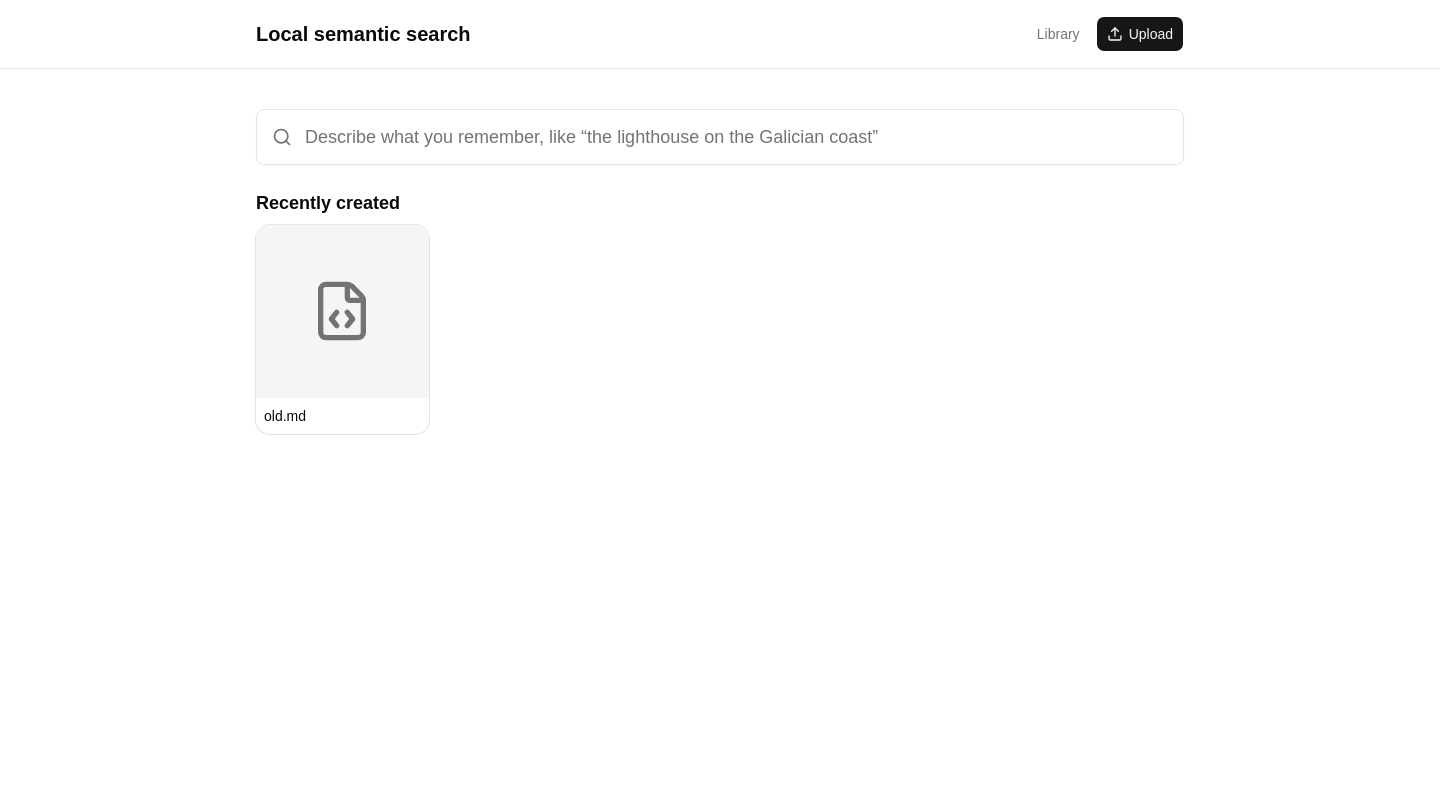
it: App › the upload drawer › should close with the close button
Click the button "Upload". click: click(1140, 34)
box: [1096, 16, 1184, 52]
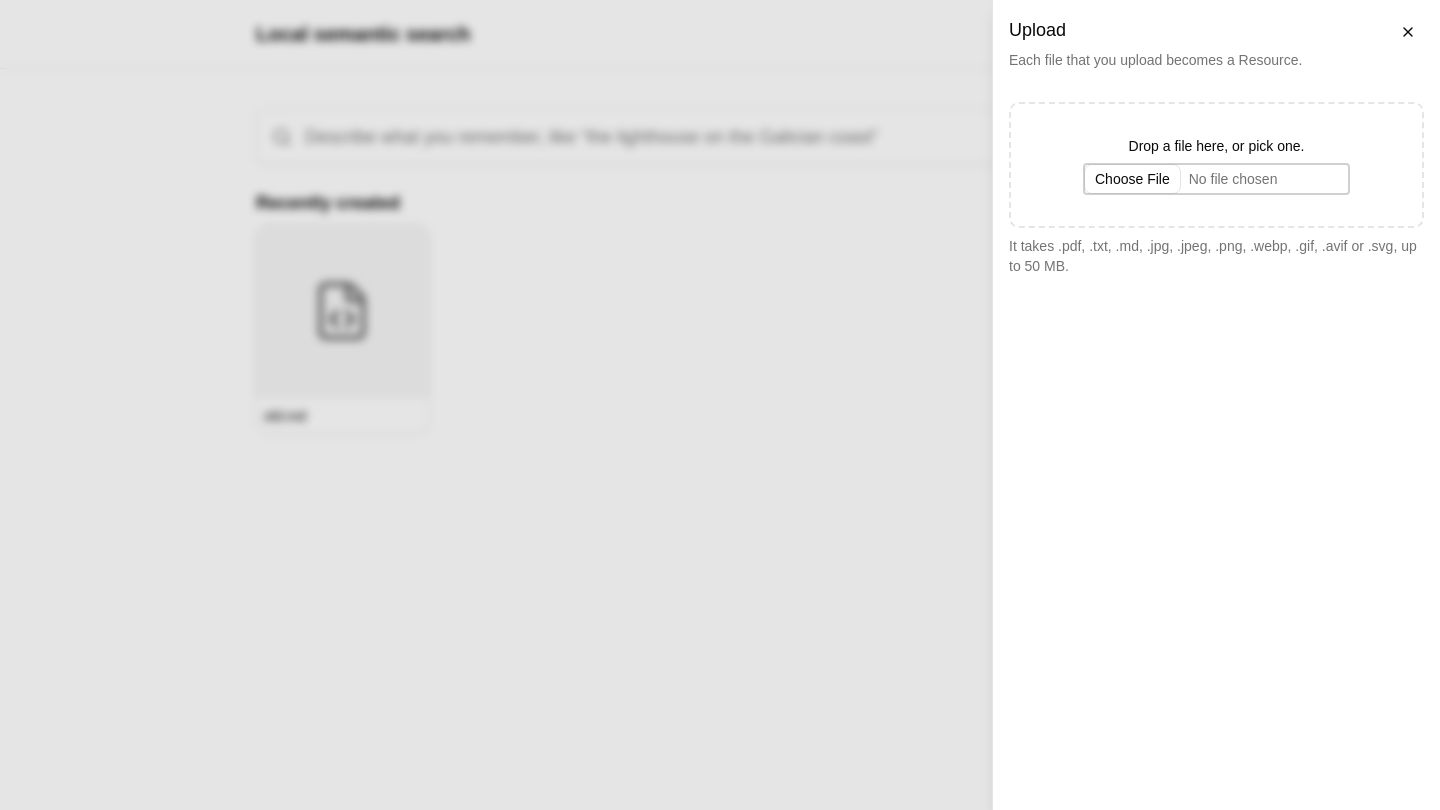
Expected: the dialog "Upload" is shown, [992, 0, 1439, 809]
Click the button named "Close". click: click(1408, 32)
box: [1392, 16, 1424, 48]
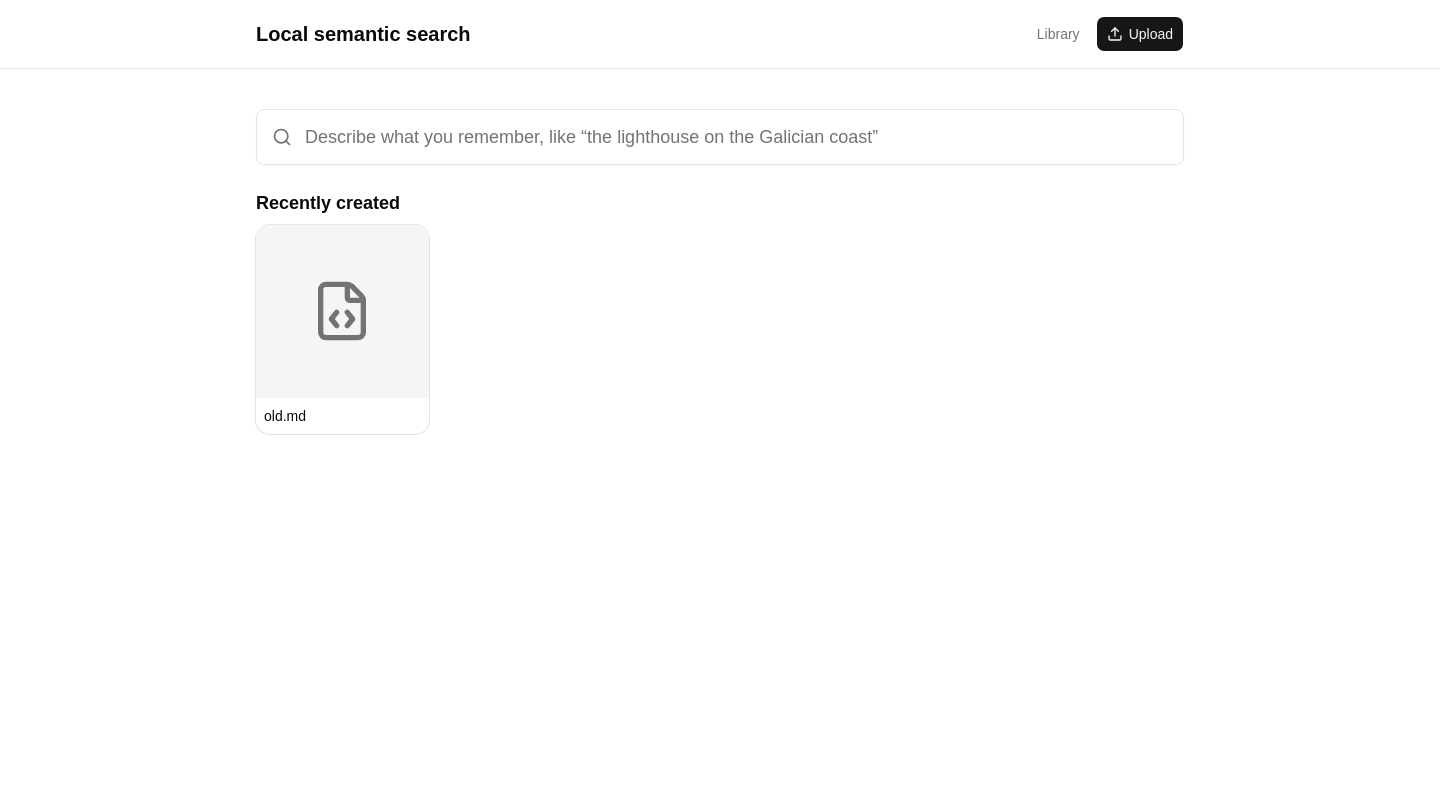
Expected: the dialog is gone
